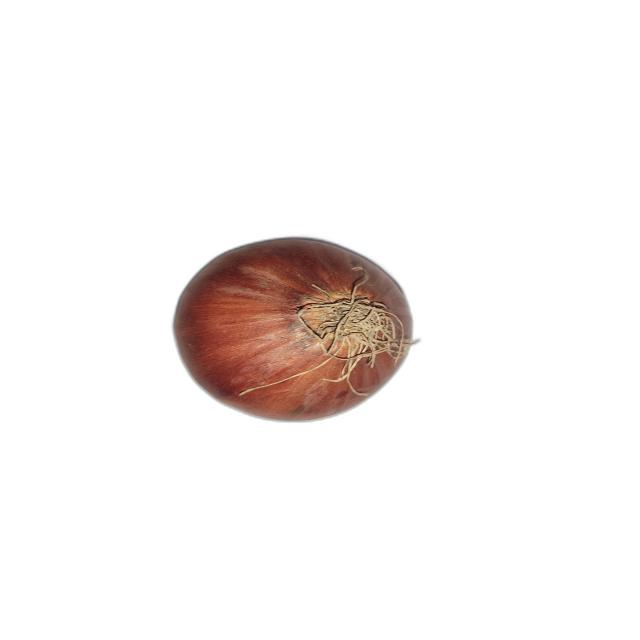onion: (172, 236, 418, 423)
